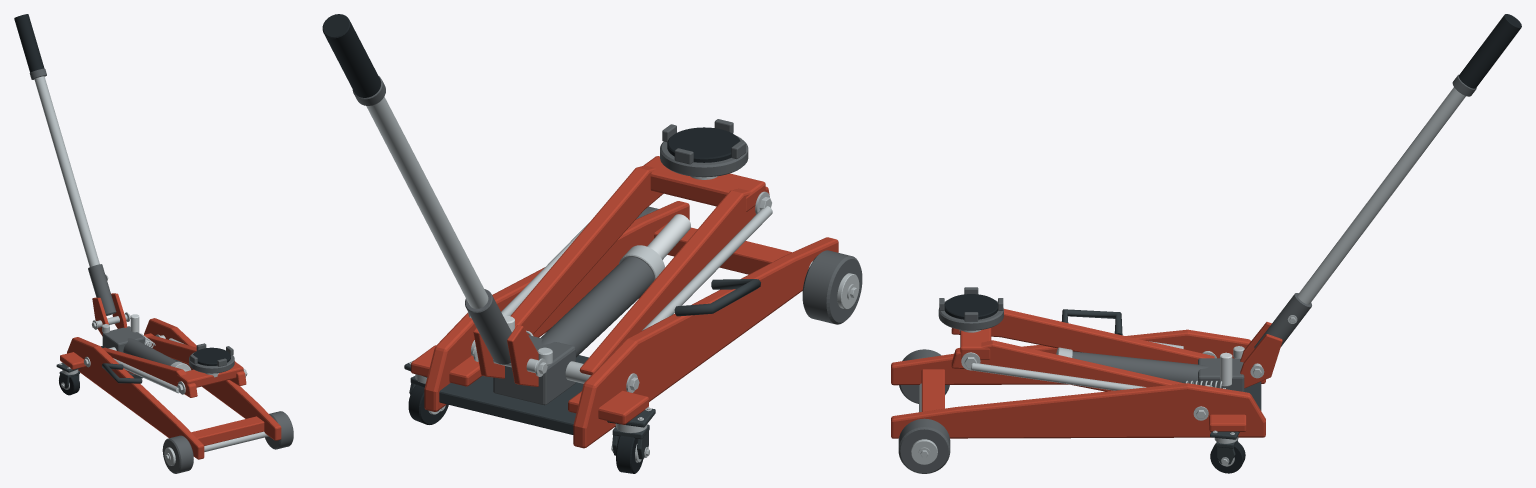
The model's file is city-hydraulic-floor-jack.glb.
3 views of the same model, side by side, from view 1: azimuth 30°, elevation 25°; view 2: azimuth 150°, elevation 25°; view 3: azimuth 270°, elevation 25° (orthographic). The views are drawn at different scales.
Parts seen in each view (by area): view 1: Assembly | Workshop vermilion powder coat, Assembly | Dark cast iron, Assembly | Satin zinc plated steel, Assembly | Black moulded rubber, Assembly | Graphite frame enamel; view 2: Assembly | Workshop vermilion powder coat, Assembly | Dark cast iron, Assembly | Satin zinc plated steel, Assembly | Graphite frame enamel, Assembly | Black moulded rubber, Assembly | Polished hydraulic rod; view 3: Assembly | Workshop vermilion powder coat, Assembly | Dark cast iron, Assembly | Satin zinc plated steel, Assembly | Black moulded rubber, Assembly | Graphite frame enamel.
Boxes of the visible parts, x1,y1,x2,y2 form: Assembly | Workshop vermilion powder coat: (60, 293, 281, 459); Assembly | Dark cast iron: (29, 68, 293, 473); Assembly | Satin zinc plated steel: (34, 76, 268, 465); Assembly | Black moulded rubber: (14, 14, 230, 395); Assembly | Graphite frame enamel: (56, 346, 181, 388); Assembly | Workshop vermilion powder coat: (411, 156, 838, 448); Assembly | Dark cast iron: (352, 76, 862, 405); Assembly | Satin zinc plated steel: (366, 97, 859, 462); Assembly | Graphite frame enamel: (404, 279, 760, 459); Assembly | Black moulded rubber: (322, 14, 740, 473); Assembly | Polished hydraulic rod: (503, 214, 690, 331); Assembly | Workshop vermilion powder coat: (891, 309, 1282, 438); Assembly | Dark cast iron: (898, 74, 1476, 473); Assembly | Satin zinc plated steel: (911, 87, 1465, 466); Assembly | Black moulded rubber: (944, 14, 1521, 473); Assembly | Graphite frame enamel: (1061, 309, 1261, 464).
Size of the model in its own units: 0.4585 by 1.04 by 1.41.
